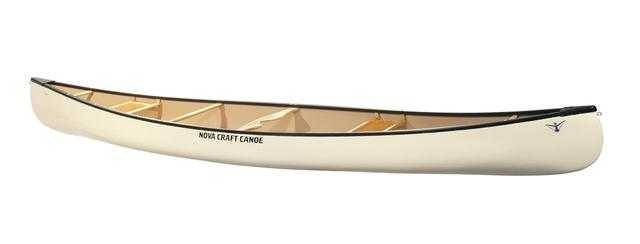kayak: (31, 78, 602, 176)
